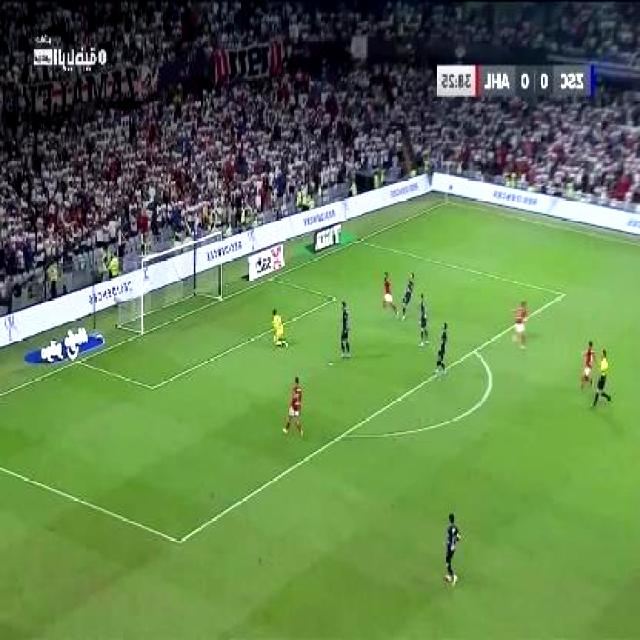bigarea_bottom_inner: (169, 524, 191, 556)
bigarea_top_inner: (554, 282, 574, 304)
bigarea_top_outter: (350, 230, 368, 248)
bottom_arc_area_intersection: (336, 422, 352, 444)
corner: (438, 195, 456, 208)
smallarea_bottom_inner: (145, 374, 163, 398)
smallarea_bottom_outter: (71, 352, 86, 370)
smallarea_top_inner: (328, 288, 342, 304)
smallarea_top_outter: (263, 268, 280, 286)
top_arc_area_intersection: (464, 338, 484, 362)
